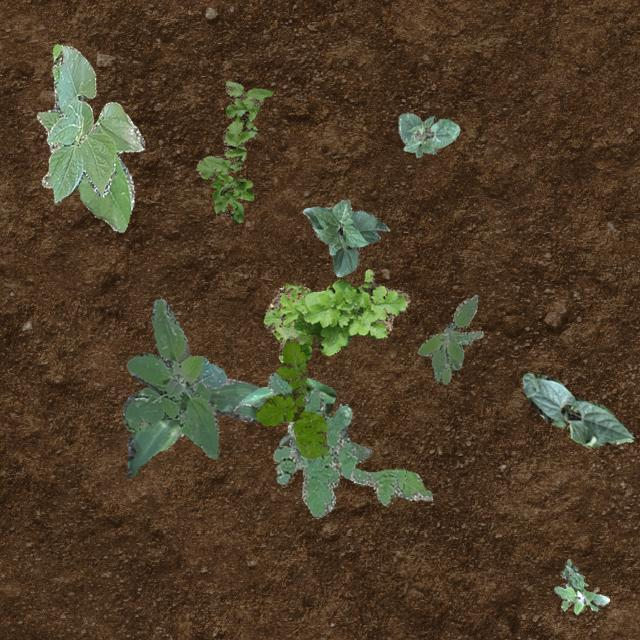crop: (46, 42, 144, 202), (125, 378, 263, 476), (36, 100, 134, 230), (520, 372, 634, 448), (234, 376, 336, 444), (302, 198, 388, 276), (396, 112, 458, 156)
weed: (266, 372, 432, 518), (122, 296, 226, 458), (262, 268, 408, 362), (194, 80, 272, 222), (254, 338, 326, 458), (417, 294, 482, 384), (552, 558, 608, 614), (288, 436, 370, 462)
